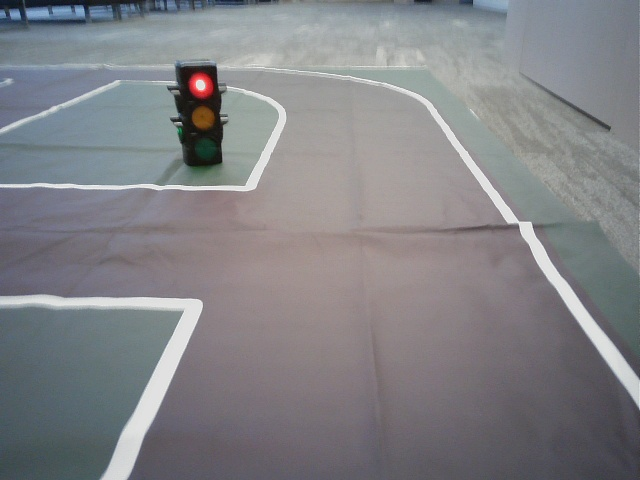red: (183, 71, 219, 160)
